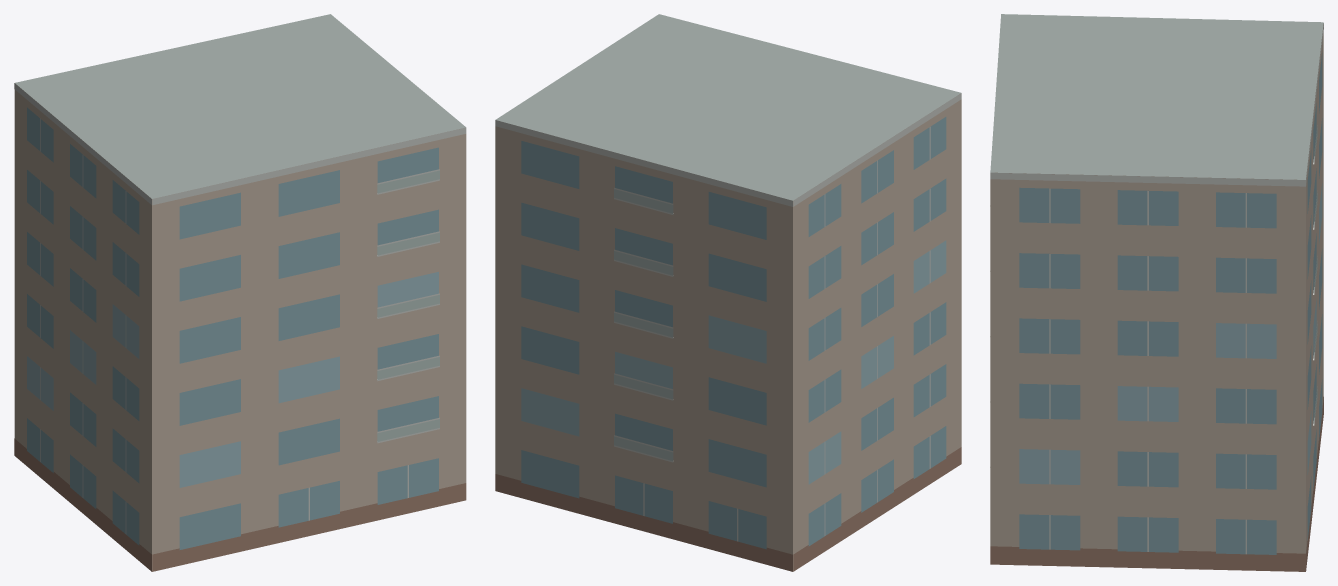
The model's file is survey-upis-32964274.glb.
3 renders of one model, left to right at view 1: azimuth 30°, elevation 25°; view 2: azimuth 150°, elevation 25°; view 3: azimuth 270°, elevation 25°, orthographic. The views are drawn at different scales.
Parts seen in each view (by area): view 1: survey-upis-32964274.tmp; view 2: survey-upis-32964274.tmp; view 3: survey-upis-32964274.tmp.
Boxes of the visible parts, bbox=[...] form: survey-upis-32964274.tmp: bbox=[14, 14, 466, 571]; survey-upis-32964274.tmp: bbox=[495, 14, 961, 571]; survey-upis-32964274.tmp: bbox=[990, 14, 1323, 571].
Bounding box in the file's own units: 13.09 × 14.4 × 11.12.
